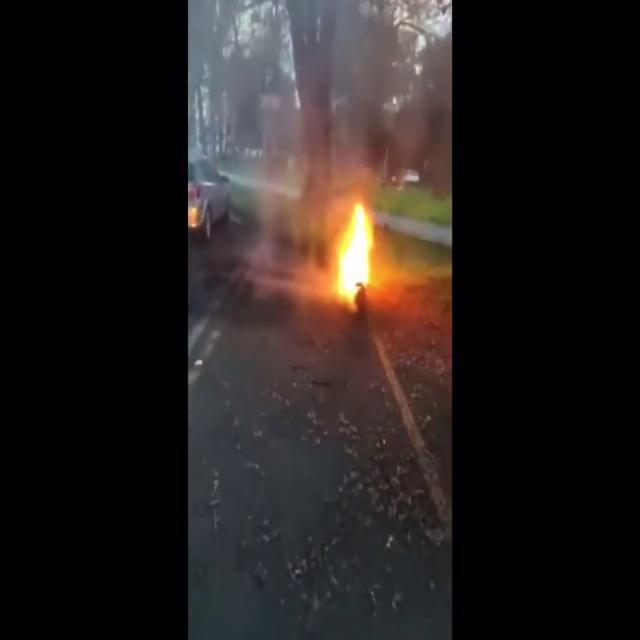Fire: (330, 195, 378, 302)
Smoke: (196, 0, 448, 204)
